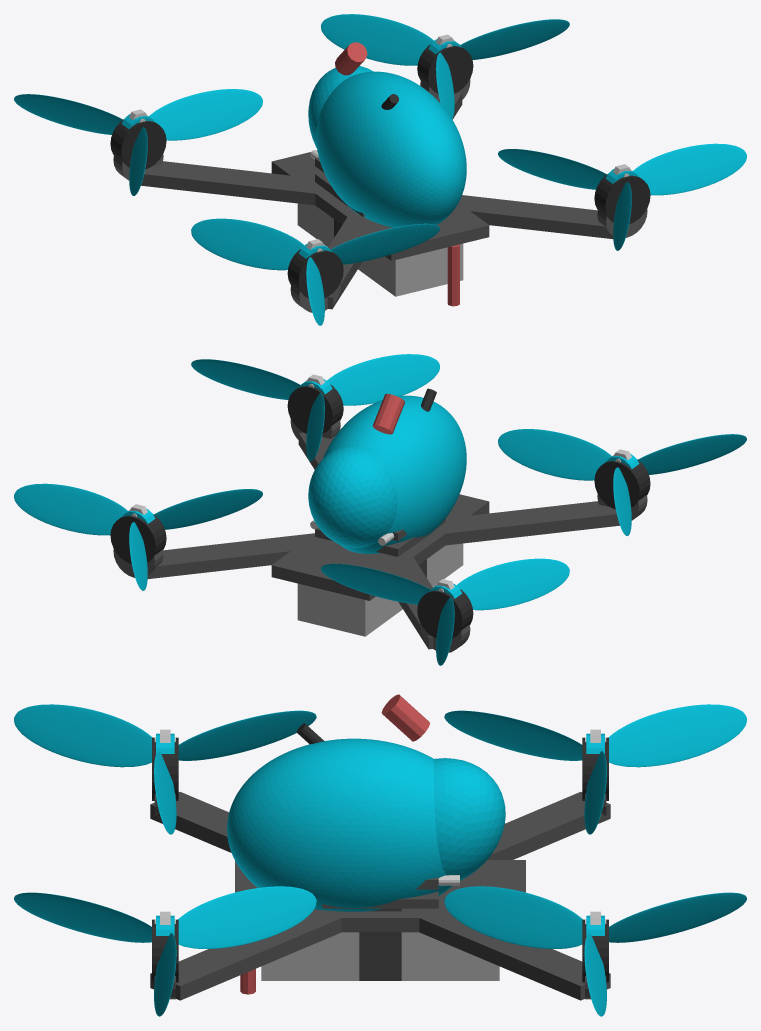
The picture shows the model from 3 angles, top to bottom: view 1: azimuth 30°, elevation 25°; view 2: azimuth 150°, elevation 25°; view 3: azimuth 270°, elevation 25°; orthographic projection. The views are drawn at different scales.
Visible parts, largest first — view 1: mat_plastic_canopy, mat_carbon_frame, prop_mat_plastic_2, prop_mat_plastic_0, prop_mat_plastic_3, prop_mat_plastic_1, mat_batt_body, mat_metal_bell_0, mat_metal_bell_3, mat_metal_bell_2, mat_metal_bell_1, mat_wire_red (+1 smaller); view 2: mat_plastic_canopy, mat_carbon_frame, prop_mat_plastic_3, prop_mat_plastic_1, prop_mat_plastic_2, prop_mat_plastic_0, mat_batt_body, mat_metal_bell_1, mat_metal_bell_2, mat_metal_bell_3, mat_metal_bell_0, mat_plastic_antennatip (+1 smaller); view 3: mat_plastic_canopy, mat_carbon_frame, prop_mat_plastic_0, prop_mat_plastic_1, prop_mat_plastic_2, prop_mat_plastic_3, mat_batt_body, mat_fabric_strap, mat_plastic_antennatip, mat_board_1, mat_metal_bell_2, mat_metal_bell_3 (+2 smaller).
Part boxes in pixels (bbox=[...]): mat_plastic_canopy: bbox=[308, 66, 466, 227]; mat_carbon_frame: bbox=[141, 92, 613, 309]; prop_mat_plastic_2: bbox=[14, 89, 262, 195]; prop_mat_plastic_0: bbox=[498, 143, 746, 250]; prop_mat_plastic_3: bbox=[191, 218, 439, 325]; prop_mat_plastic_1: bbox=[321, 14, 569, 119]; mat_batt_body: bbox=[297, 203, 463, 296]; mat_metal_bell_0: bbox=[594, 174, 650, 223]; mat_metal_bell_3: bbox=[287, 249, 343, 298]; mat_metal_bell_2: bbox=[110, 119, 166, 169]; mat_metal_bell_1: bbox=[417, 44, 473, 93]; mat_wire_red: bbox=[447, 244, 459, 306]; mat_plastic_canopy: bbox=[308, 395, 466, 553]; mat_carbon_frame: bbox=[147, 432, 619, 649]; prop_mat_plastic_3: bbox=[498, 429, 746, 535]; prop_mat_plastic_1: bbox=[14, 483, 262, 590]; prop_mat_plastic_2: bbox=[321, 558, 569, 665]; prop_mat_plastic_0: bbox=[191, 354, 439, 461]; mat_batt_body: bbox=[297, 543, 463, 636]; mat_metal_bell_1: bbox=[110, 514, 166, 563]; mat_metal_bell_2: bbox=[417, 589, 473, 638]; mat_metal_bell_3: bbox=[594, 459, 650, 509]; mat_metal_bell_0: bbox=[287, 384, 343, 433]; mat_plastic_antennatip: bbox=[372, 393, 404, 434]; mat_plastic_canopy: bbox=[227, 738, 505, 911]; mat_carbon_frame: bbox=[150, 791, 610, 1000]; prop_mat_plastic_0: bbox=[14, 886, 316, 1016]; prop_mat_plastic_1: bbox=[444, 886, 746, 1016]; prop_mat_plastic_2: bbox=[444, 704, 746, 834]; prop_mat_plastic_3: bbox=[14, 704, 316, 834]; mat_batt_body: bbox=[261, 932, 499, 980]; mat_fabric_strap: bbox=[359, 908, 401, 980]; mat_plastic_antennatip: bbox=[381, 694, 429, 741]; mat_board_1: bbox=[322, 891, 438, 908]; mat_metal_bell_2: bbox=[582, 737, 608, 800]; mat_metal_bell_3: bbox=[152, 737, 178, 800].
Bounding box in the file's own units: 0.131 × 0.0569 × 0.1385.
